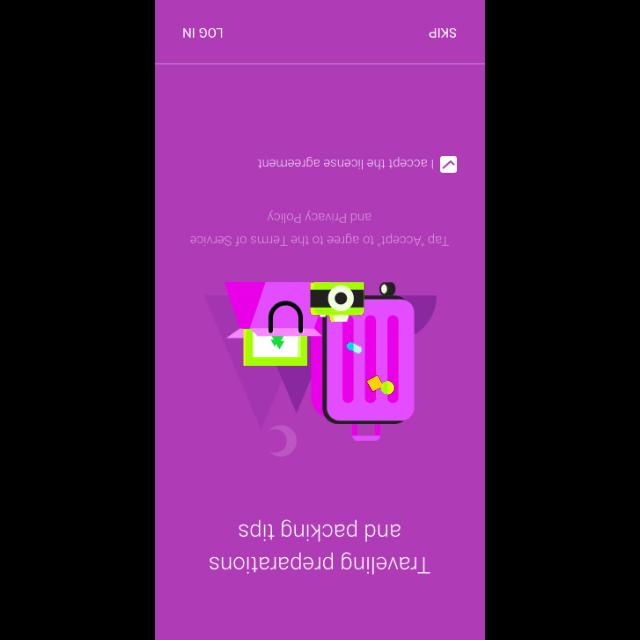checkbox: (442, 158, 456, 172)
image: (204, 282, 436, 456)
text: (208, 519, 430, 575), (189, 210, 449, 247), (257, 156, 433, 170), (182, 28, 222, 38), (428, 28, 456, 38)
